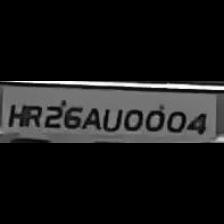0: (142, 104, 164, 134), (120, 104, 142, 132), (164, 106, 184, 134)
2: (42, 100, 62, 130)
4: (186, 108, 208, 135)
6: (62, 102, 82, 130)
A: (82, 104, 100, 130)
H: (5, 100, 24, 127)
R: (20, 101, 40, 129)
U: (100, 104, 120, 132)
